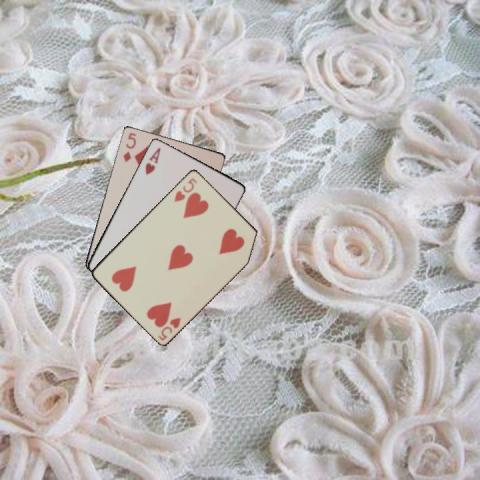5d: (120, 130, 138, 164)
5h: (170, 175, 198, 203), (155, 314, 182, 341)
Ah: (142, 144, 162, 176)
